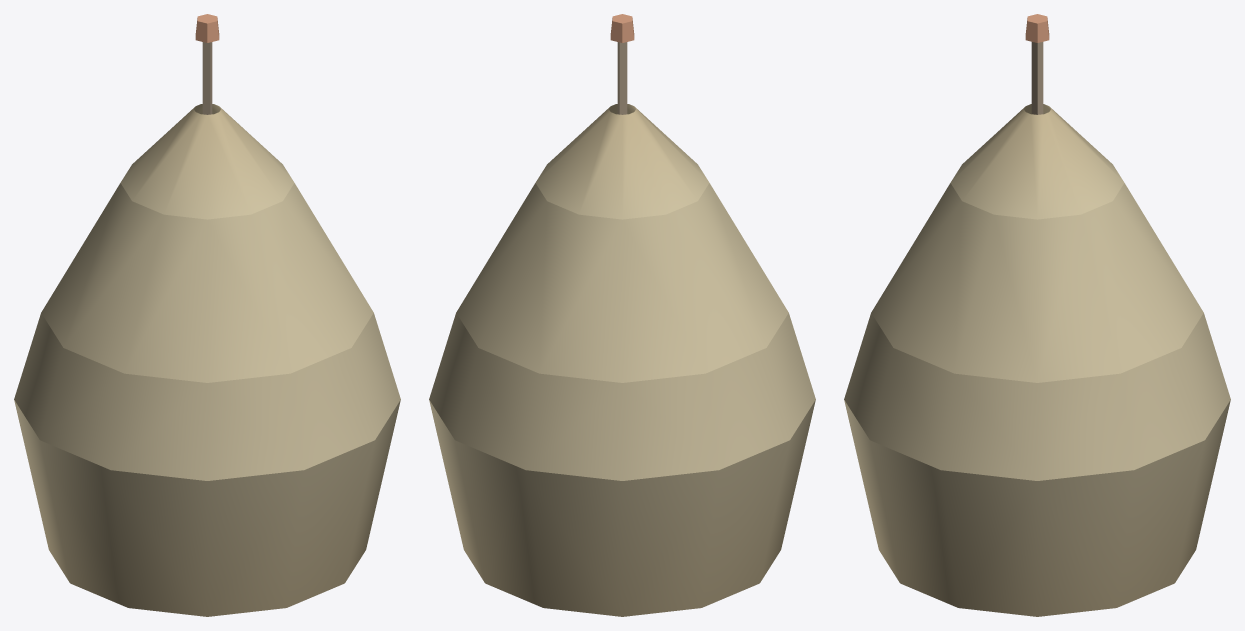
The model's file is SM_BM_BVV_HayStack.glb.
3 renders of one model, left to right at view 1: azimuth 30°, elevation 25°; view 2: azimuth 150°, elevation 25°; view 3: azimuth 270°, elevation 25°, orthographic.
Visible parts, largest first — view 1: SM_BM_BVV_HayStack; view 2: SM_BM_BVV_HayStack; view 3: SM_BM_BVV_HayStack.
Part boxes in pixels (bbox=[...]): SM_BM_BVV_HayStack: bbox=[14, 14, 400, 616]; SM_BM_BVV_HayStack: bbox=[429, 14, 815, 616]; SM_BM_BVV_HayStack: bbox=[844, 14, 1230, 616].
Bounding box in the file's own units: 3.4 × 5.15 × 3.4.
